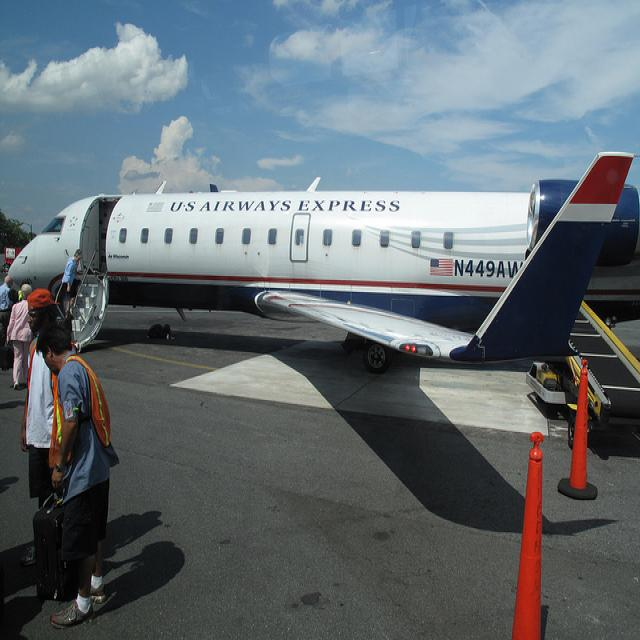airplane: (7, 153, 639, 376)
